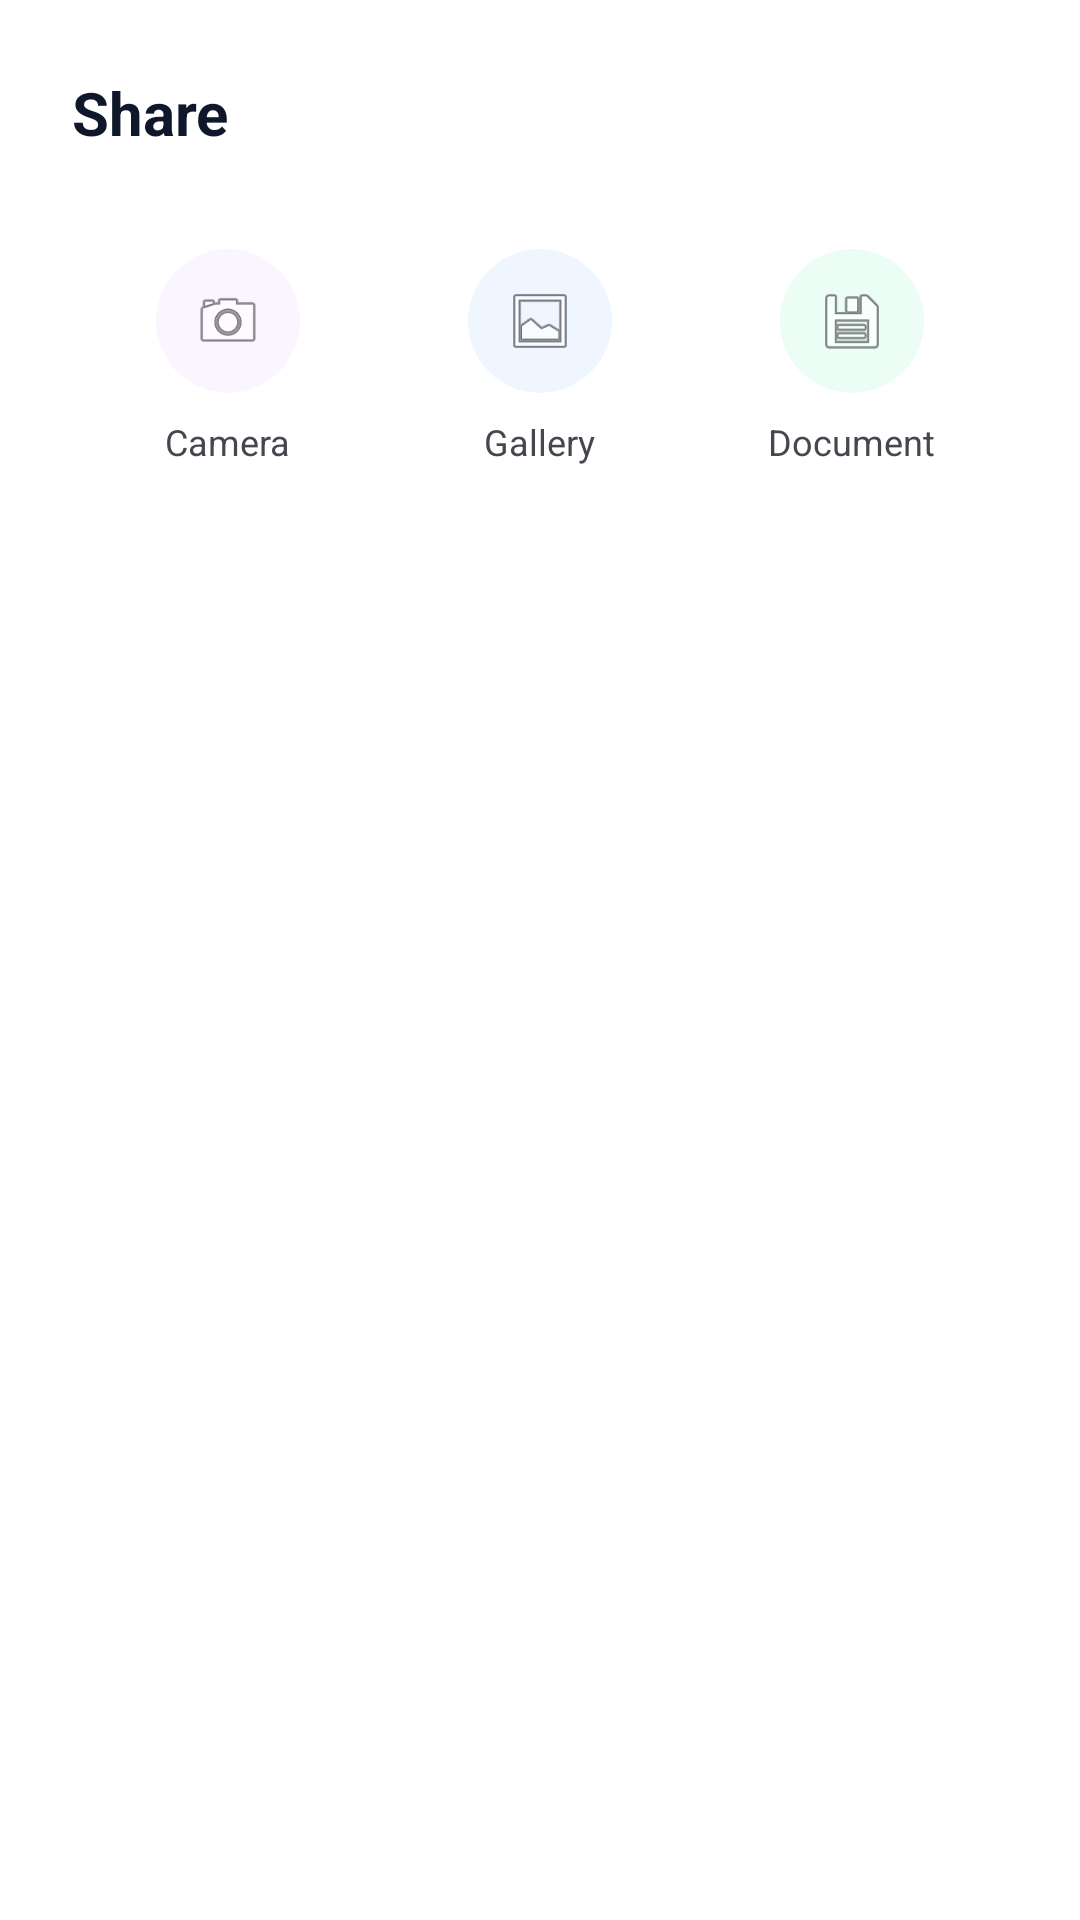

Locate icon controls on the screen. Image size 1080px x 1920px, boxes as (x1, y1, x2, y2).
save: (825, 294, 879, 349)
